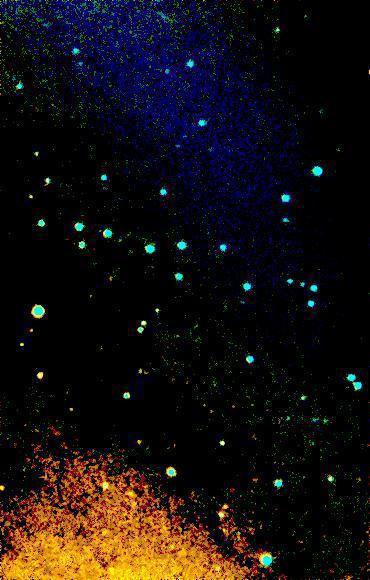star: (290, 3, 320, 33)
